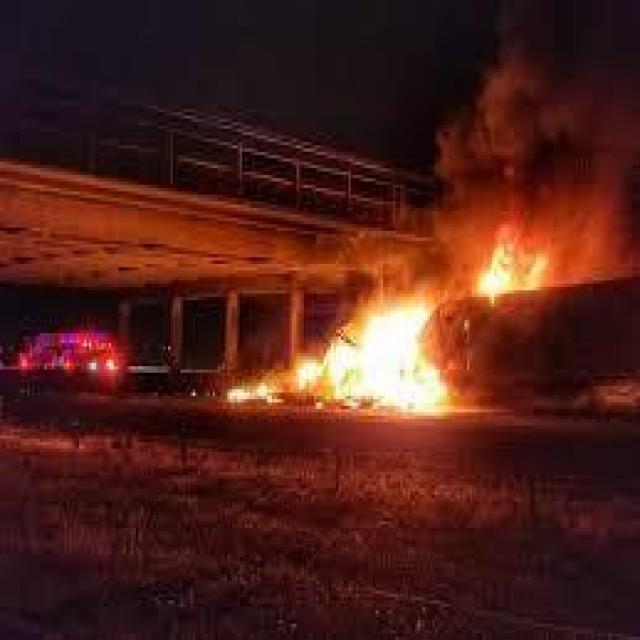fire: (211, 275, 462, 417), (467, 220, 553, 300)
other: (18, 330, 128, 378)
